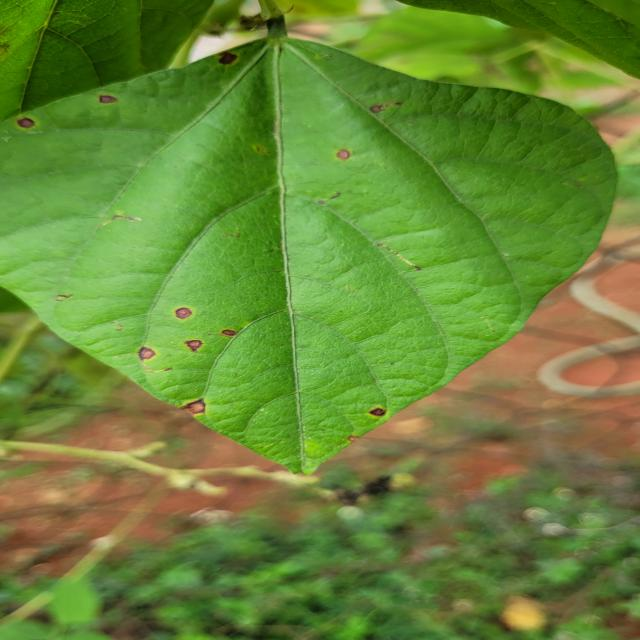Dolicos bean_cercospora leaf spot: (0, 41, 626, 467)
